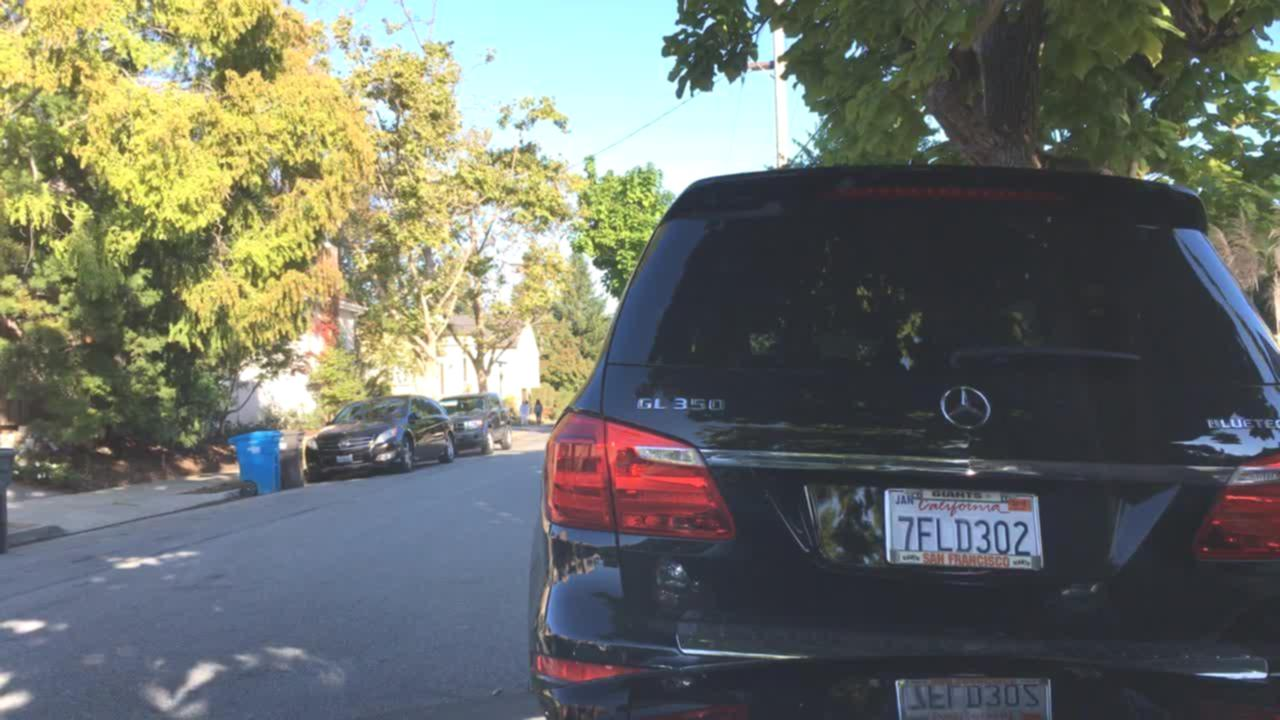Mercedes: (927, 377, 1002, 441)
